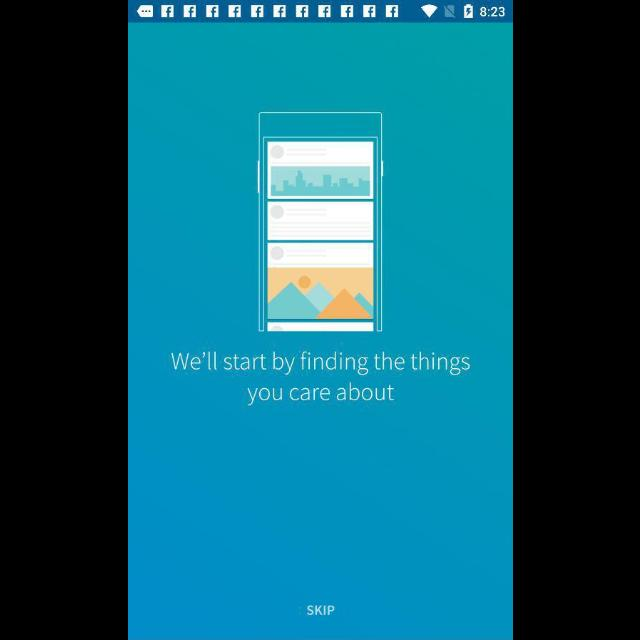image: (256, 112, 384, 334)
text: (170, 352, 470, 406), (306, 604, 334, 616)
uppertaskbar: (128, 1, 512, 23)
